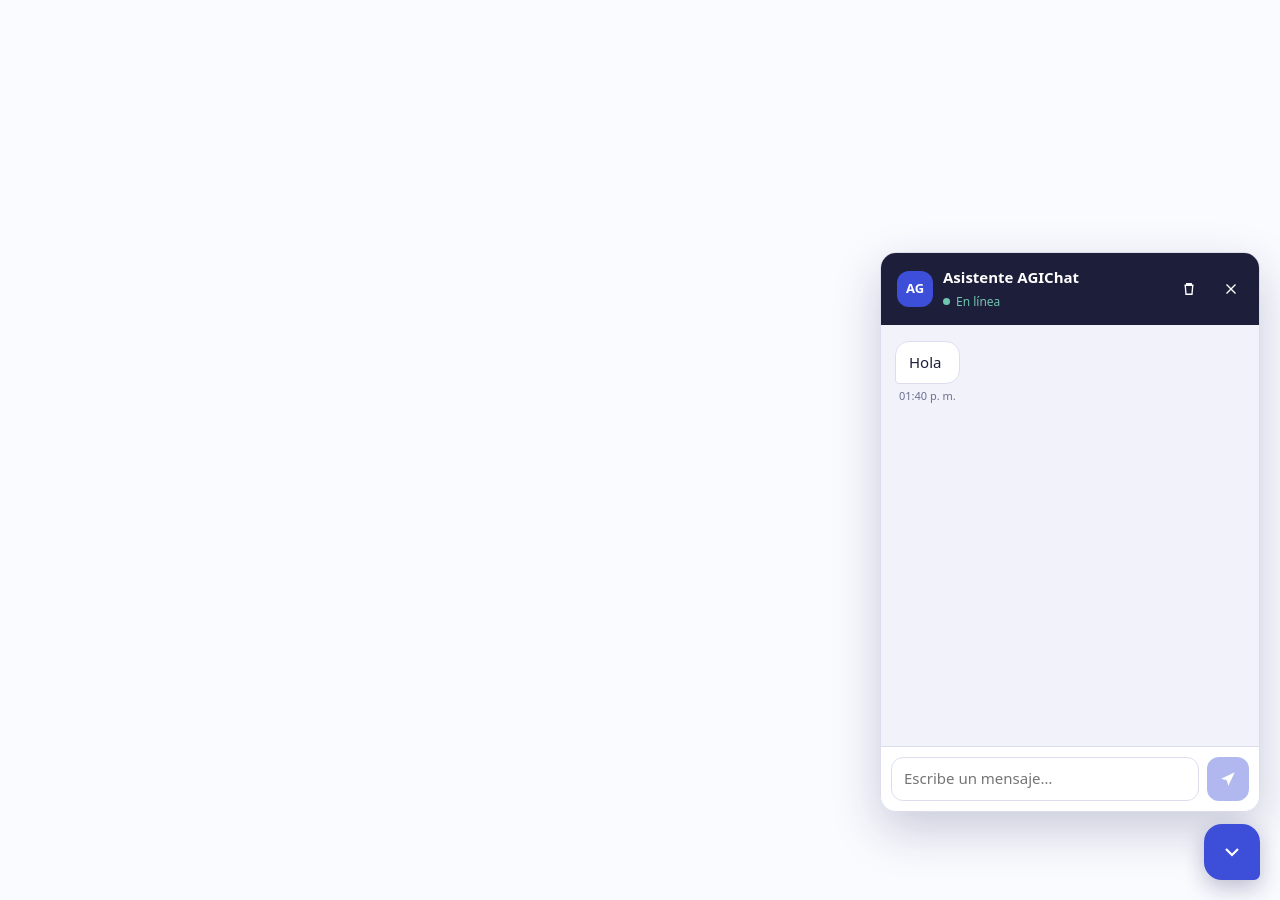
Scenario: ChatWidget › limpia la conversación y muestra el estado vacío
Click the button named "Limpiar conversación" at {"x": 1189, "y": 289}, box 1173,273 -> 1205,305
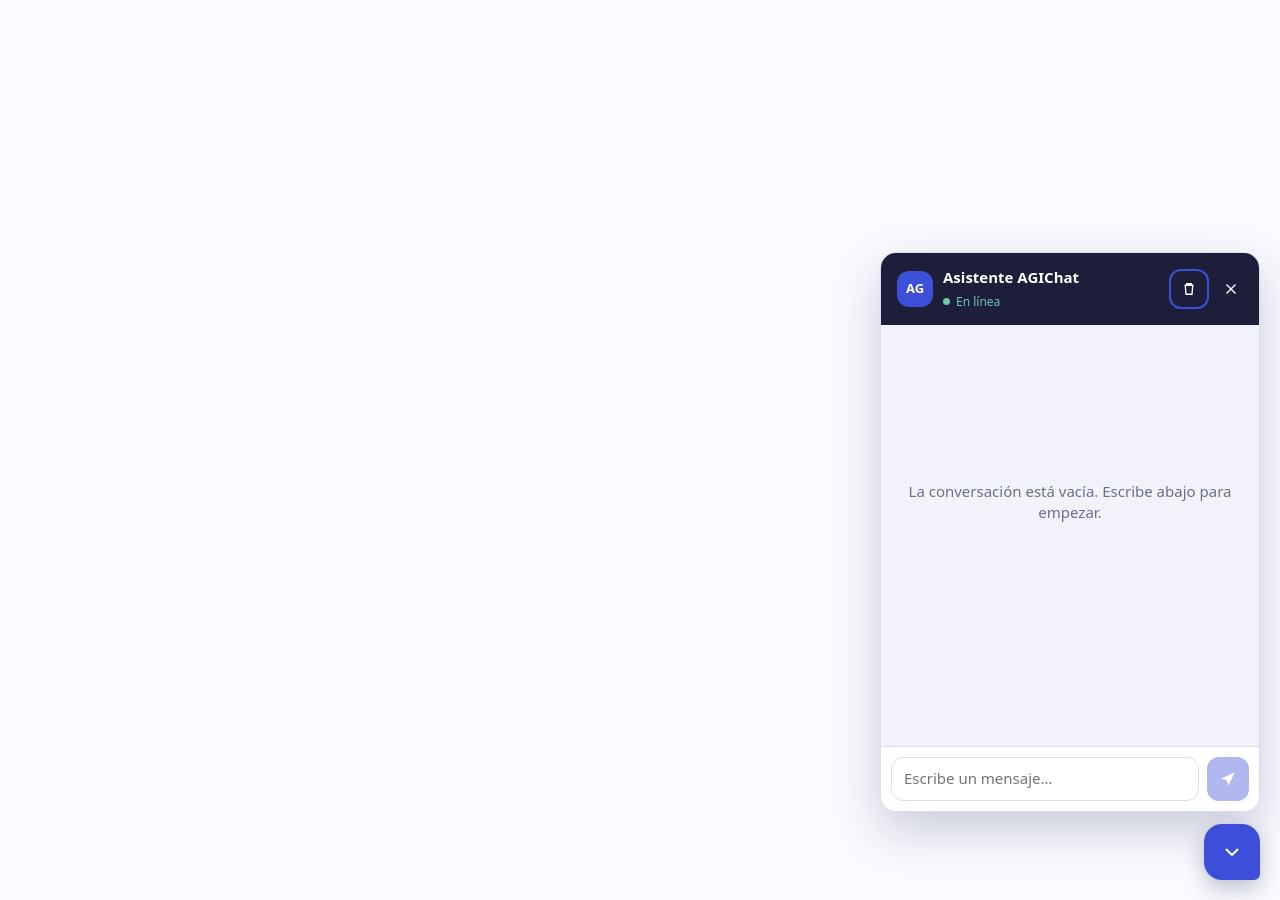
Result: the text "La conversación está vacía. Escribe abajo para empezar." is shown at 895,480 -> 1245,524
